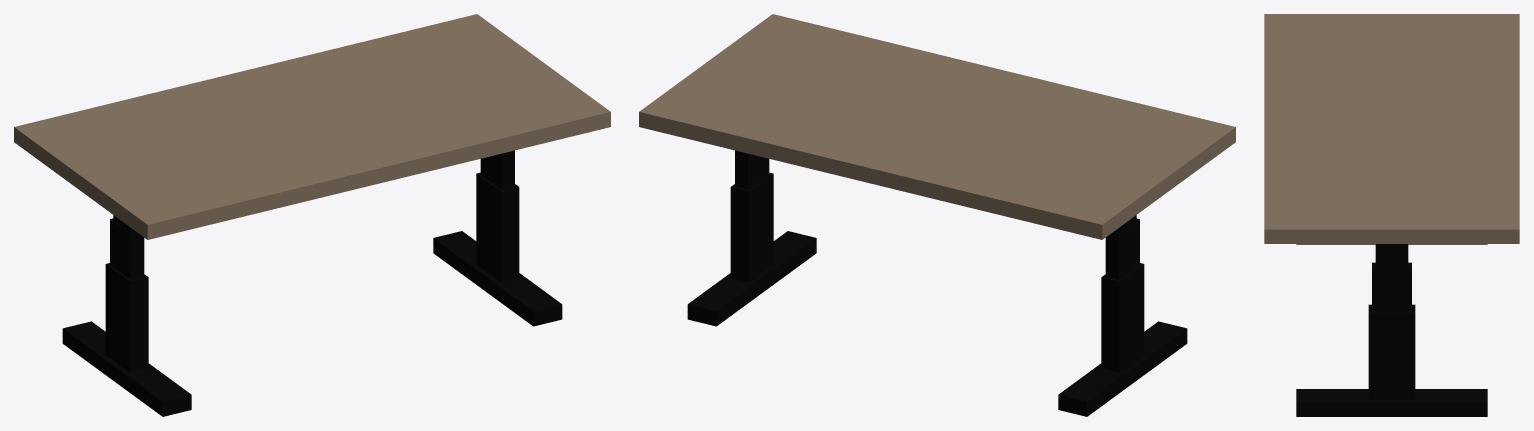
File: StandingDeskLowEmpty.glb
3 views of the same model, side by side, from view 1: azimuth 30°, elevation 25°; view 2: azimuth 150°, elevation 25°; view 3: azimuth 270°, elevation 25° (orthographic). The views are drawn at different scales.
Parts seen in each view (by area): view 1: StandingDesk-col; view 2: StandingDesk-col; view 3: StandingDesk-col.
Part boxes in pixels (bbox=[...]): StandingDesk-col: bbox=[14, 14, 610, 416]; StandingDesk-col: bbox=[639, 14, 1235, 416]; StandingDesk-col: bbox=[1264, 14, 1519, 416].
Bounding box in the file's own units: 6.4 × 2.8 × 3.2.
Materials: 1 (1 with a texture image).
